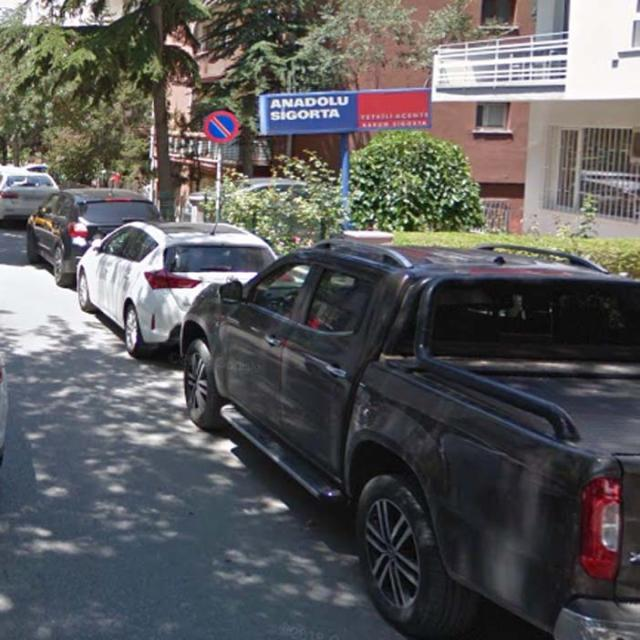parkyasak: (205, 109, 235, 143)
